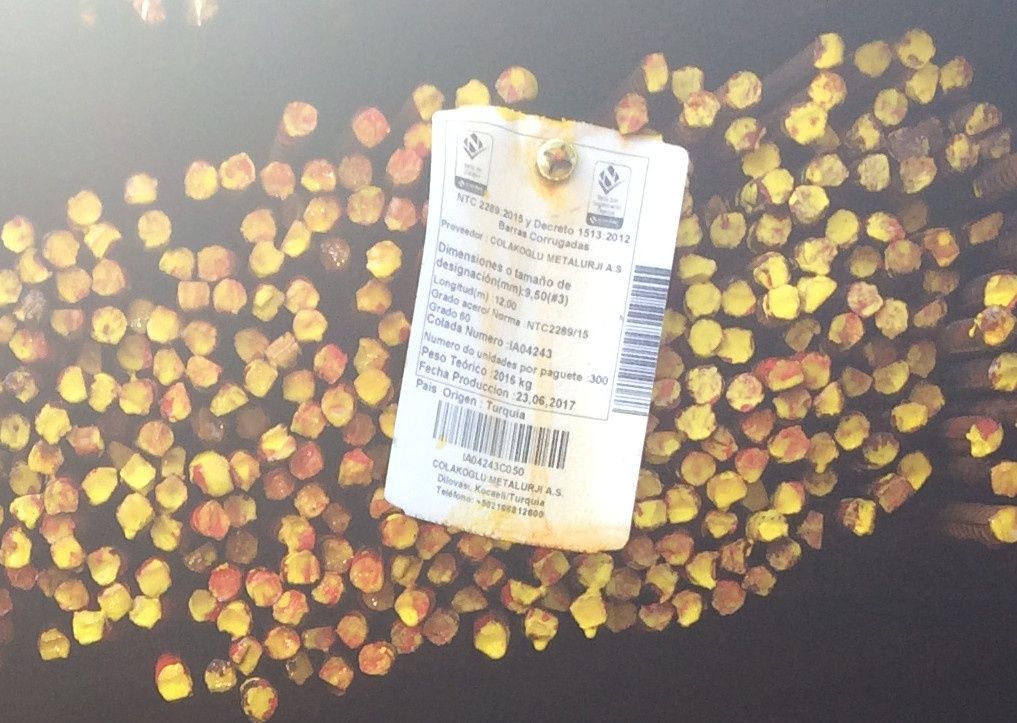dipstick: (952, 418, 1004, 455), (792, 237, 840, 277), (115, 496, 155, 540), (189, 453, 233, 493), (260, 331, 305, 369), (918, 229, 965, 265), (896, 27, 937, 68), (261, 160, 301, 201), (877, 478, 919, 517), (789, 185, 829, 225), (844, 276, 882, 318), (85, 546, 123, 588), (569, 592, 606, 635), (349, 371, 394, 406), (357, 645, 402, 680), (229, 449, 263, 495), (797, 275, 836, 315), (471, 622, 512, 660), (808, 152, 850, 189), (8, 328, 53, 362), (663, 486, 702, 525), (918, 263, 964, 296), (705, 472, 746, 509), (676, 403, 717, 440), (51, 268, 92, 305), (981, 268, 1017, 310), (718, 325, 754, 367), (746, 509, 790, 543), (347, 186, 385, 225), (49, 303, 89, 340), (153, 662, 193, 699), (844, 498, 882, 536), (353, 109, 391, 147), (786, 104, 823, 143), (894, 196, 931, 235), (911, 295, 948, 334), (709, 211, 748, 248), (497, 67, 536, 104), (808, 72, 848, 108), (889, 124, 929, 160), (970, 208, 1006, 248), (614, 94, 650, 134), (172, 279, 212, 315), (40, 232, 82, 266), (195, 497, 229, 539), (884, 240, 922, 277), (726, 71, 763, 109), (726, 374, 763, 412), (832, 411, 870, 448), (701, 425, 739, 462), (251, 283, 288, 321), (975, 308, 1014, 344), (137, 210, 173, 249), (278, 515, 314, 554), (687, 365, 722, 405), (395, 586, 430, 626), (201, 661, 242, 695), (852, 112, 885, 154), (723, 277, 755, 320), (219, 156, 262, 188), (939, 57, 976, 94), (769, 428, 806, 465), (655, 528, 692, 565), (320, 390, 357, 427), (683, 553, 721, 589), (115, 335, 153, 371), (282, 553, 320, 589), (757, 170, 796, 205), (726, 117, 765, 152), (213, 279, 252, 314), (245, 570, 284, 605), (906, 65, 940, 105), (877, 88, 911, 128), (858, 153, 892, 193), (677, 251, 717, 285), (471, 557, 511, 591), (228, 329, 271, 360), (811, 33, 847, 70), (754, 251, 791, 287), (686, 319, 722, 356), (718, 541, 754, 578), (158, 384, 194, 421), (95, 584, 132, 620), (379, 513, 415, 550), (679, 451, 717, 486), (388, 148, 426, 183), (384, 195, 419, 233), (178, 318, 213, 356), (93, 307, 131, 342), (764, 358, 803, 392), (88, 261, 127, 295), (156, 477, 190, 516), (240, 680, 274, 719), (876, 299, 909, 339), (899, 450, 932, 490), (181, 355, 221, 388), (945, 132, 977, 173), (1, 528, 32, 570), (205, 566, 247, 597), (350, 550, 381, 592), (259, 428, 295, 464), (136, 560, 172, 596), (855, 39, 890, 76), (503, 578, 538, 615), (355, 279, 392, 314), (43, 478, 78, 515), (81, 468, 118, 503), (797, 515, 831, 553), (711, 580, 745, 618), (423, 607, 453, 650), (742, 143, 781, 176), (524, 609, 556, 649), (966, 101, 1007, 132), (826, 209, 862, 244), (685, 92, 720, 128), (579, 553, 615, 588), (83, 223, 119, 258), (46, 540, 88, 570), (75, 611, 110, 647), (235, 403, 272, 437), (30, 440, 64, 477), (425, 553, 462, 587), (286, 279, 319, 317), (784, 318, 823, 350), (857, 431, 896, 463), (674, 590, 705, 630), (701, 508, 745, 536), (987, 507, 1017, 548), (601, 599, 636, 634), (305, 197, 340, 232), (238, 361, 273, 396), (321, 657, 356, 692), (901, 159, 937, 193), (671, 66, 705, 102), (813, 383, 847, 419), (646, 565, 682, 599), (282, 101, 318, 135), (338, 156, 374, 190), (287, 445, 321, 481), (302, 622, 338, 656), (388, 619, 422, 655), (683, 284, 720, 317), (354, 336, 387, 373), (36, 629, 73, 662), (866, 211, 908, 240), (740, 566, 778, 598), (387, 554, 425, 586), (34, 512, 73, 543), (260, 627, 299, 658), (642, 54, 672, 94), (374, 312, 409, 346), (279, 369, 314, 403), (120, 382, 155, 416), (36, 406, 71, 440), (121, 455, 155, 490), (774, 389, 810, 422), (624, 538, 660, 571), (293, 403, 329, 436), (56, 364, 89, 400), (764, 538, 801, 570), (240, 210, 277, 242), (293, 308, 325, 345), (146, 305, 178, 342), (317, 534, 349, 571), (763, 286, 801, 317), (799, 352, 830, 390), (649, 429, 680, 467), (987, 461, 1017, 500), (639, 600, 673, 634), (608, 569, 642, 603), (304, 159, 338, 193), (251, 241, 285, 275), (293, 484, 327, 518), (318, 233, 351, 268), (121, 173, 156, 206), (874, 361, 910, 393), (631, 497, 667, 529), (448, 584, 484, 616), (15, 247, 51, 279), (225, 495, 257, 531), (907, 385, 944, 416), (131, 597, 164, 631), (538, 552, 570, 587), (211, 388, 251, 416), (141, 420, 173, 455), (1, 413, 29, 453), (416, 526, 448, 561), (807, 432, 838, 468), (990, 352, 1017, 393), (88, 374, 117, 412), (803, 465, 836, 498), (186, 164, 219, 197), (892, 402, 926, 434), (458, 532, 492, 564), (160, 248, 194, 280), (193, 410, 227, 442), (8, 462, 42, 494), (226, 532, 258, 566), (362, 581, 396, 613), (735, 445, 770, 476), (151, 347, 182, 382), (5, 369, 40, 400), (315, 346, 345, 382), (906, 339, 935, 376), (340, 451, 369, 488), (980, 130, 1012, 163), (757, 215, 790, 247), (830, 316, 863, 348), (412, 84, 444, 117), (15, 289, 47, 322), (403, 121, 437, 152), (157, 445, 188, 479), (923, 116, 950, 155), (340, 612, 367, 651), (844, 246, 879, 276), (456, 80, 491, 110), (370, 242, 400, 277), (230, 638, 260, 673), (264, 465, 293, 501), (361, 444, 388, 482), (841, 364, 873, 396), (772, 482, 805, 513), (55, 581, 88, 612), (282, 219, 312, 253), (1, 218, 36, 247), (273, 593, 305, 624), (867, 333, 897, 366), (68, 191, 101, 221), (5, 562, 38, 592), (814, 123, 843, 157), (155, 517, 182, 553), (312, 574, 342, 606), (283, 653, 312, 686), (9, 497, 40, 527), (675, 217, 704, 249), (654, 349, 683, 381), (199, 247, 228, 279), (69, 427, 103, 454), (185, 542, 219, 569), (744, 411, 774, 441), (738, 481, 768, 511), (344, 416, 375, 445), (652, 380, 684, 408), (77, 340, 104, 373), (189, 591, 220, 619), (366, 487, 394, 518), (658, 308, 682, 343), (322, 504, 349, 534), (125, 301, 151, 331), (1, 269, 20, 310), (542, 586, 575, 608), (38, 565, 62, 595), (106, 442, 134, 467), (1, 317, 18, 352)
